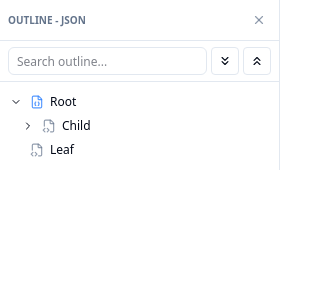
Test case: OutlineSidebar › supports expanding and collapsing all descendants from node context menu
Click the button named "Collapse All" at (257, 61), box [243,47,271,75]
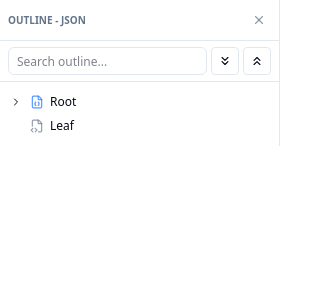
Check: the button "Child" is gone
Right-click the button "Root" at (43, 102), box [10,93,76,110]
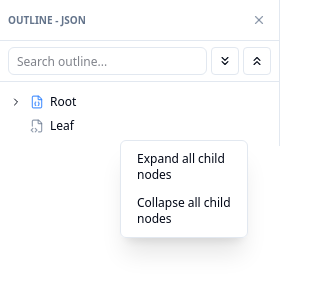
Click the button "Expand all child nodes" at (184, 167), box [125,145,243,189]
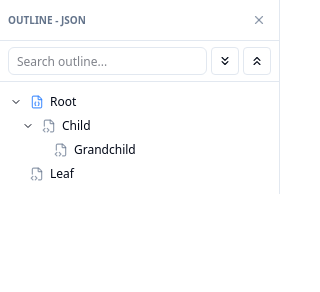
Check: the text "Child" is shown, box [62,117,91,134]
Check: the text "Grandchild" is shown, box [74,141,136,158]
Right-click the button "Root" at (43, 102), box [10,93,76,110]
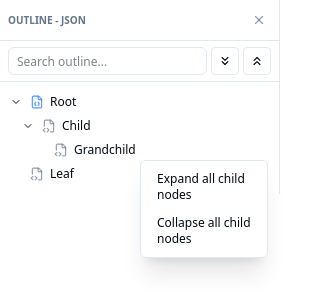
Click the button "Collapse all child nodes" at (204, 231), box [145,209,263,253]
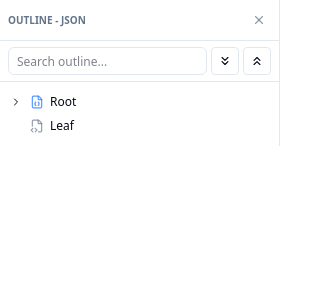
Check: the button "Child" is gone
Check: the button "Grandchild" is gone
